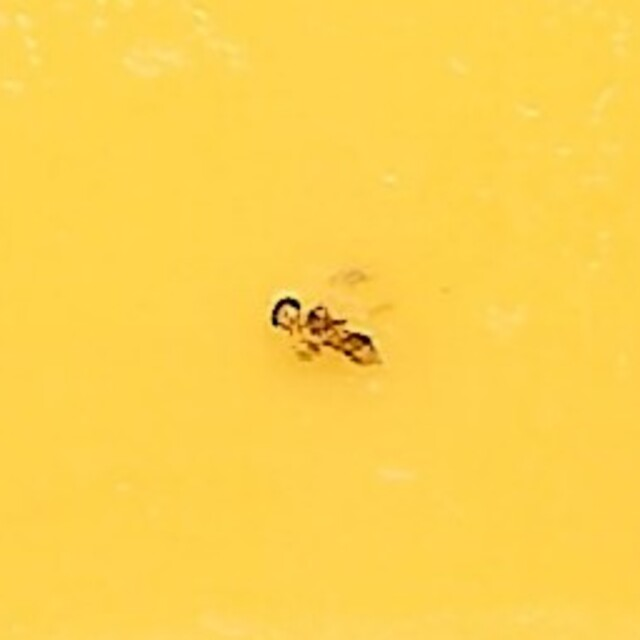Hemiptera: (250, 258, 390, 382)
